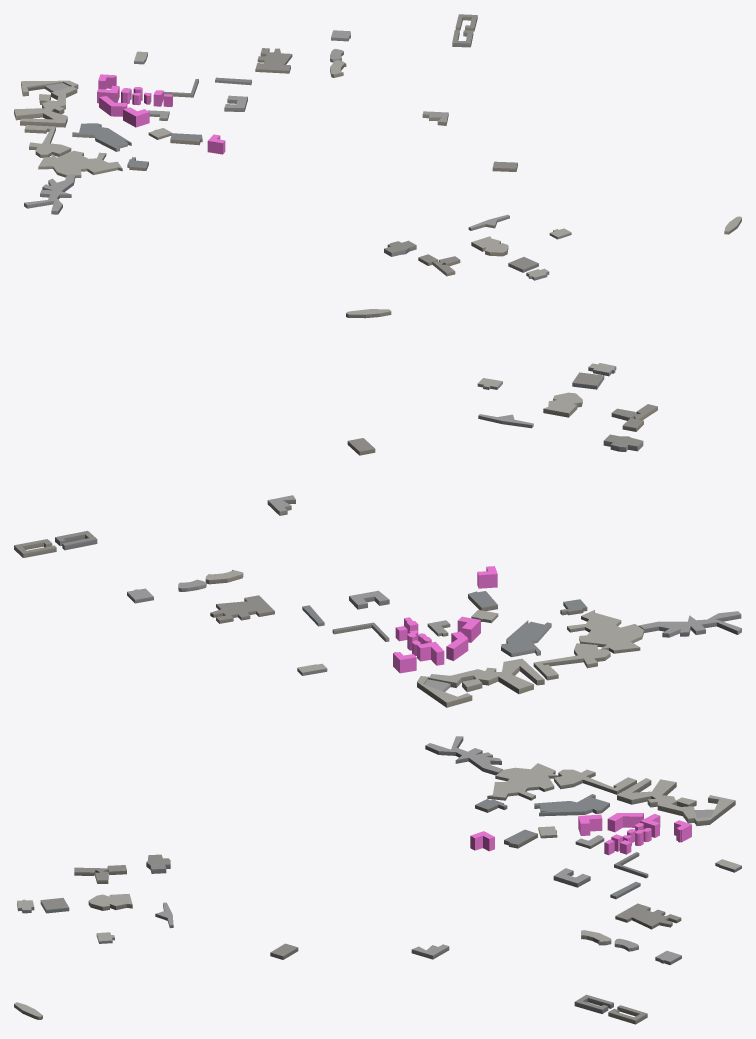
File: bld_8_5.fbx
3 renders of one model, top to bottom at view 1: azimuth 30°, elevation 25°; view 2: azimuth 150°, elevation 25°; view 3: azimuth 270°, elevation 25°, orthographic. The views are drawn at different scales.
Visible parts, largest first — view 1: bld_8_5_LOD0, bld_8_5_COL; view 2: bld_8_5_LOD0, bld_8_5_COL; view 3: bld_8_5_LOD0, bld_8_5_COL.
Part boxes in pixels (x1,y1,x2,y2): bld_8_5_LOD0: [14, 14, 741, 280]; bld_8_5_COL: [97, 74, 225, 154]; bld_8_5_LOD0: [14, 309, 741, 707]; bld_8_5_COL: [393, 566, 497, 673]; bld_8_5_LOD0: [14, 736, 741, 1024]; bld_8_5_COL: [470, 813, 691, 855].
Size of what is drawn, in the model's own units: 1837 by 38.17 by 1987.
